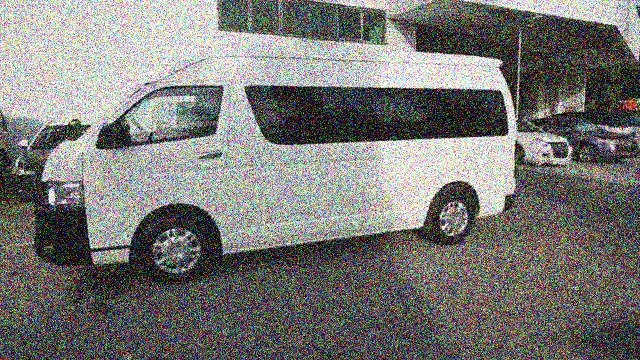van: (31, 42, 515, 283)
